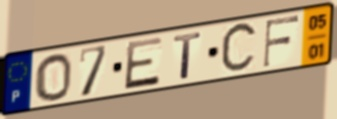7: (78, 43, 109, 98)
C: (218, 19, 260, 78)
E: (123, 35, 165, 92)
F: (261, 13, 301, 70)
O: (33, 52, 73, 103)
T: (172, 30, 204, 81)
